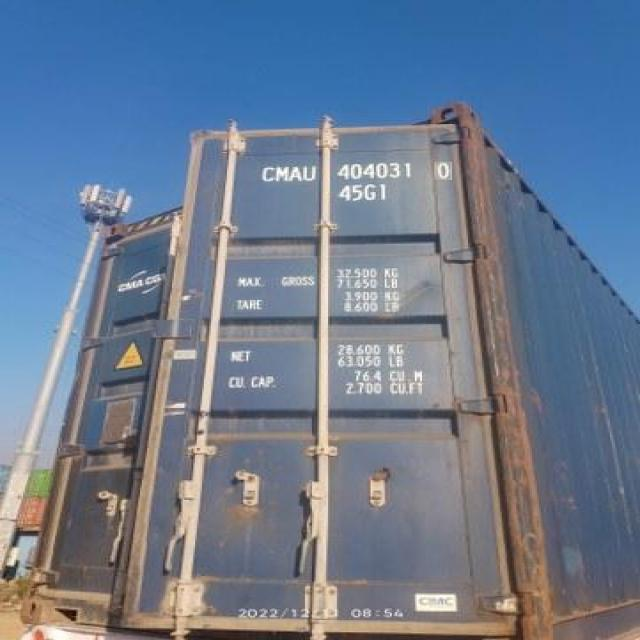container_number_h: (226, 143, 489, 212)
